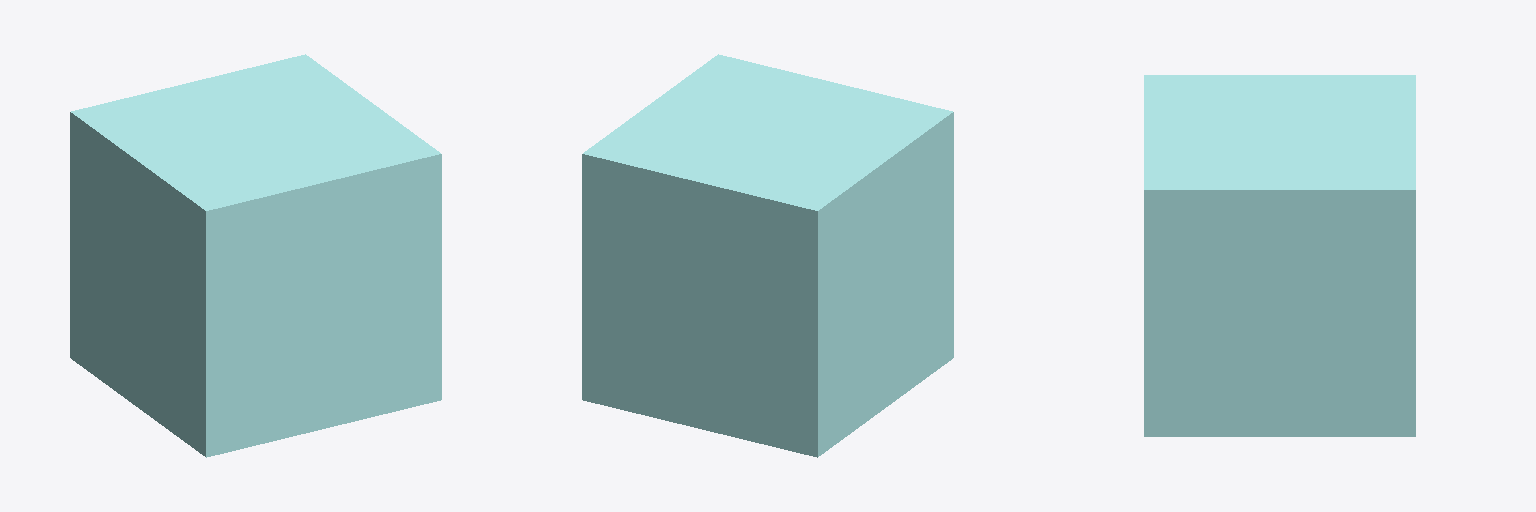
3 views of the same model, side by side, from view 1: azimuth 30°, elevation 25°; view 2: azimuth 150°, elevation 25°; view 3: azimuth 270°, elevation 25° (orthographic).
Visible parts, largest first — view 1: object 1; view 2: object 1; view 3: object 1.
Boxes of the visible parts, x1=… form: object 1: x1=70, y1=54, x2=441, y2=457; object 1: x1=582, y1=54, x2=953, y2=457; object 1: x1=1144, y1=75, x2=1415, y2=436.
Size of the model in its own units: 4.1 by 4.1 by 4.1.
Materials: 1 (1 with a texture image).